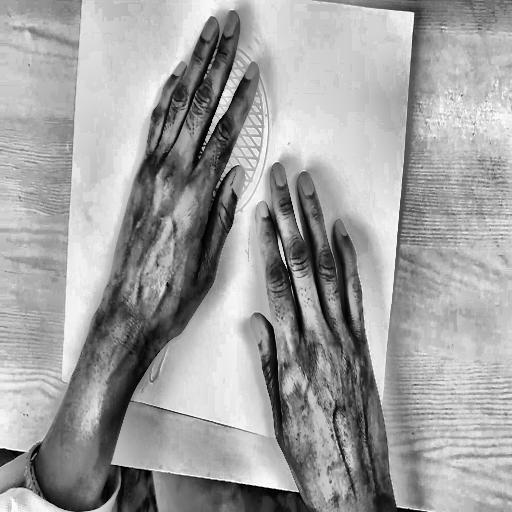badminton: (115, 16, 348, 424)
bottom_left: (58, 373, 65, 384)
bottom_right: (371, 452, 377, 463)
top_right: (411, 8, 418, 21)
